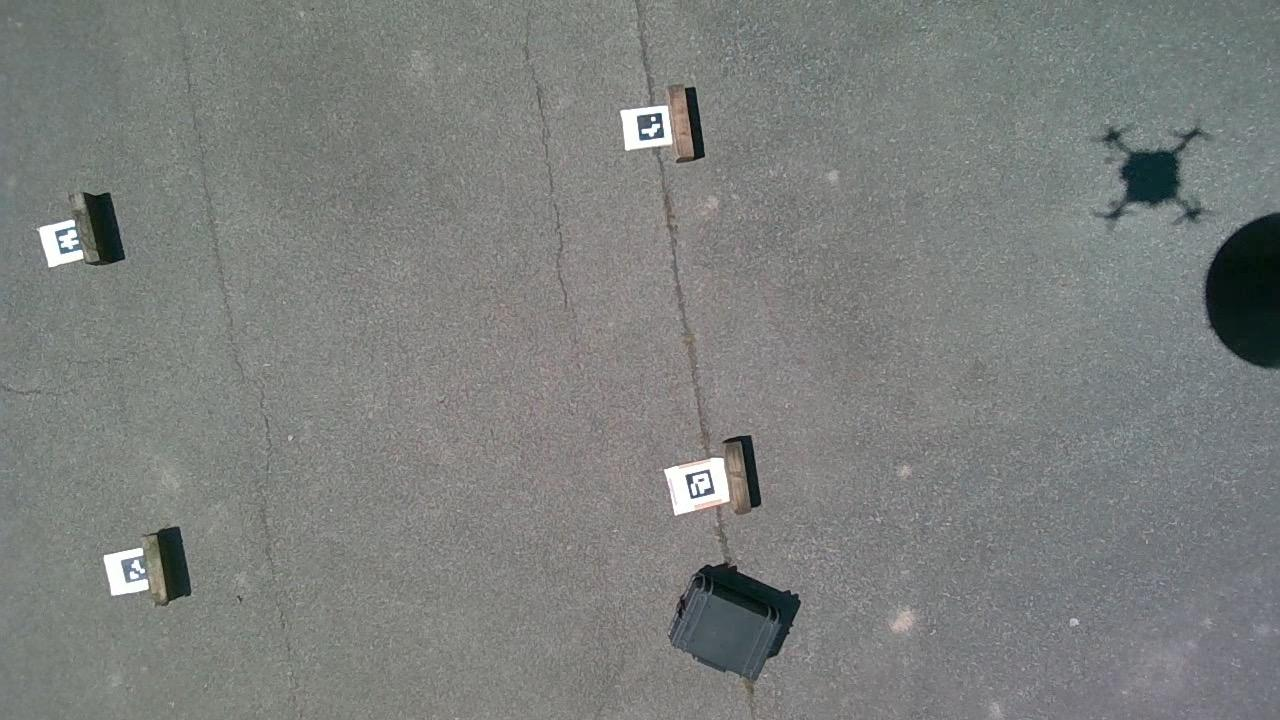rako: (669, 563, 800, 681)
